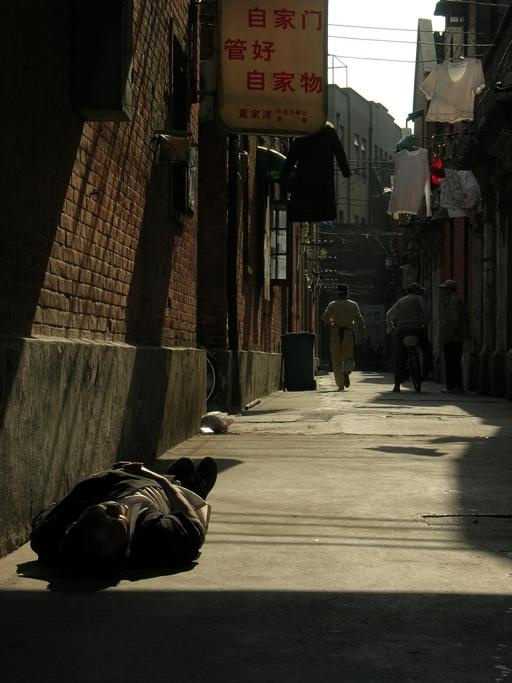non-vehicle: (194, 342, 218, 404), (403, 334, 424, 390)
